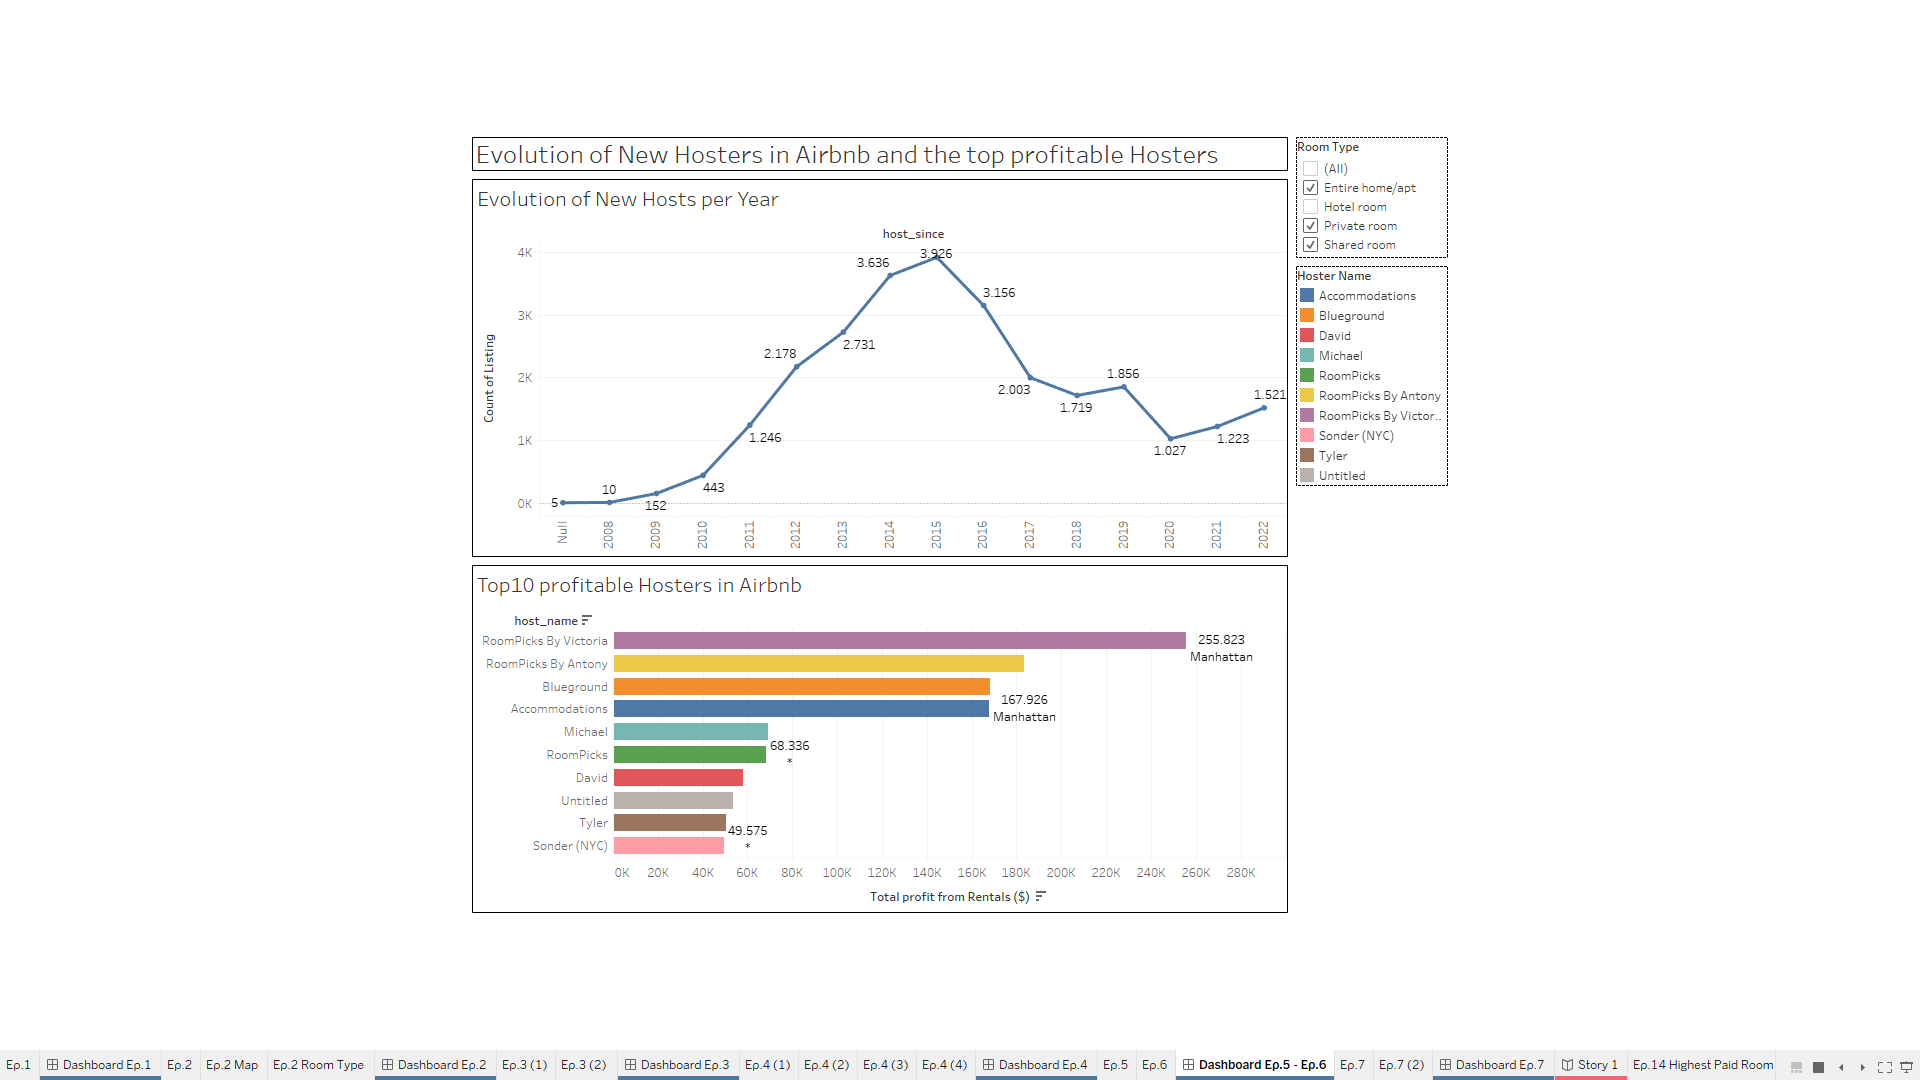

The page's visual inventory and layout, read from the dashboard file:
{"tool":"tableau","page":{"name":"Dashboard Ερ.5 - Ερ.6","canvas":[1000,800],"ordinal":9},"visuals":[{"type":"title","box":[8,8,824,42]},{"type":"filter","title":"Ερ.6","param":"[federated.0qx4ns015wxjyk1gr6kcb1janunp].[none:room_type:nk]","box":[832,8,160,129]},{"type":"worksheet","title":"Ερ.5","mark":"Automatic","rows":["host_id"],"cols":["host_since"],"box":[8,50,824,386]},{"type":"legend","title":"Ερ.6","param":"[federated.0qx4ns015wxjyk1gr6kcb1janunp].[none:host_name:nk]","box":[832,137,160,228]},{"type":"worksheet","title":"Ερ.6","mark":"Automatic","rows":["host_name"],"cols":["price"],"box":[8,436,824,356]}]}

Visuals, with their boxes on the page's 1000x800 design canvas (x1, y1, x2, y2). These are canvas units, not pixel positions in the 1920x1080 screenshot, which may show the page scaled, cropped or inside an application window:
title: detection(8, 8, 832, 50)
"Ερ.6" filter: detection(832, 8, 992, 137)
"Ερ.5" worksheet: detection(8, 50, 832, 436)
"Ερ.6" legend: detection(832, 137, 992, 365)
"Ερ.6" worksheet: detection(8, 436, 832, 792)
